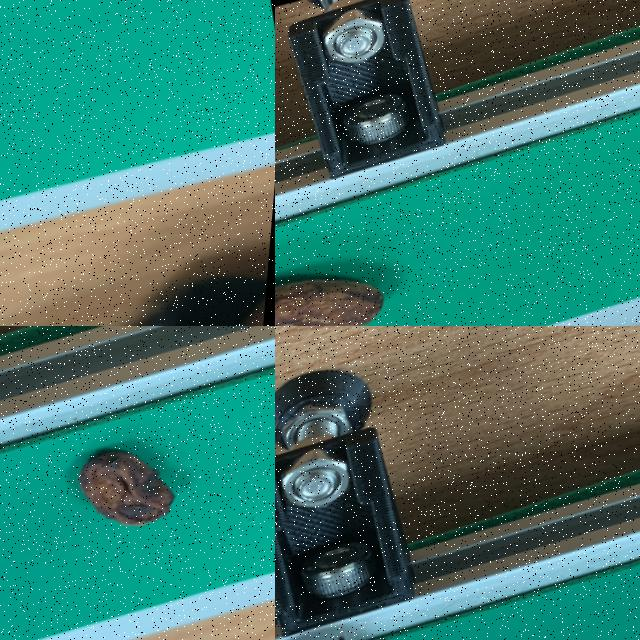Fine_cocoabeans: (275, 184, 499, 325)
Flat_cocoabeans: (0, 371, 274, 595)
